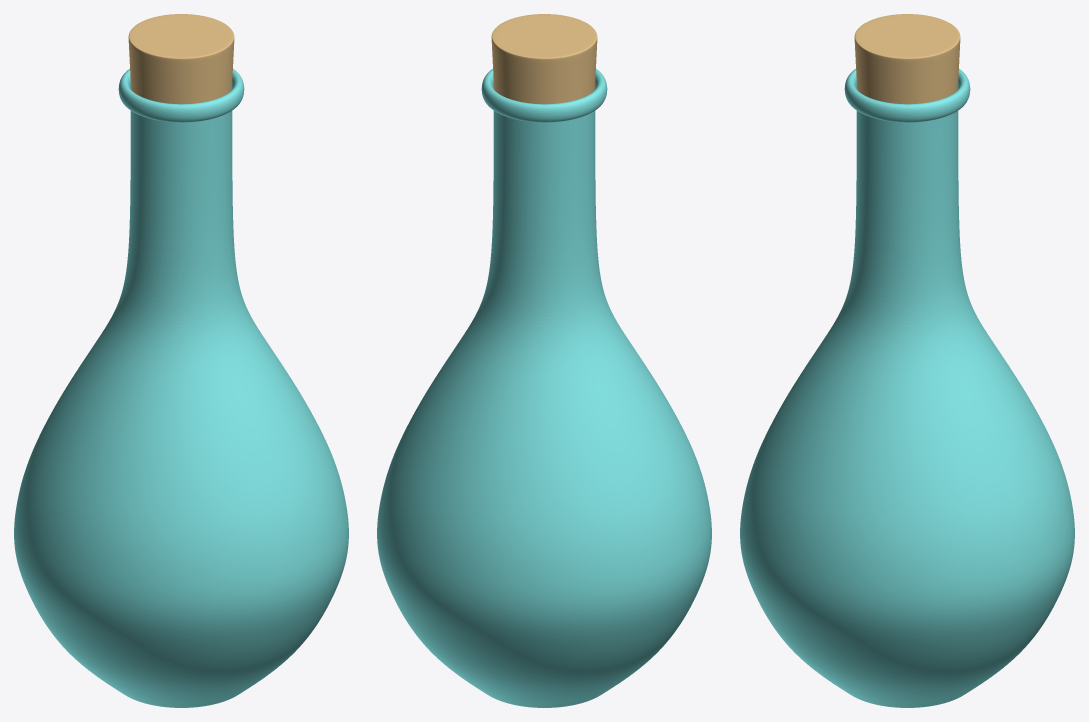
Rendered from Frasco_high.fbx.
3 views of the same model, side by side, from view 1: azimuth 30°, elevation 25°; view 2: azimuth 150°, elevation 25°; view 3: azimuth 270°, elevation 25° (orthographic).
Parts seen in each view (by area): view 1: SM_Bottle_high, SM_Cork_high; view 2: SM_Bottle_high, SM_Cork_high; view 3: SM_Bottle_high, SM_Cork_high.
Boxes of the visible parts, left/top/right/bottom form: SM_Bottle_high: left=14, top=69, right=348, bottom=707; SM_Cork_high: left=128, top=14, right=234, bottom=104; SM_Bottle_high: left=377, top=69, right=711, bottom=707; SM_Cork_high: left=491, top=14, right=597, bottom=104; SM_Bottle_high: left=740, top=69, right=1074, bottom=707; SM_Cork_high: left=854, top=14, right=960, bottom=104.
Size of the model in its own units: 13.55 by 28.77 by 13.55.
